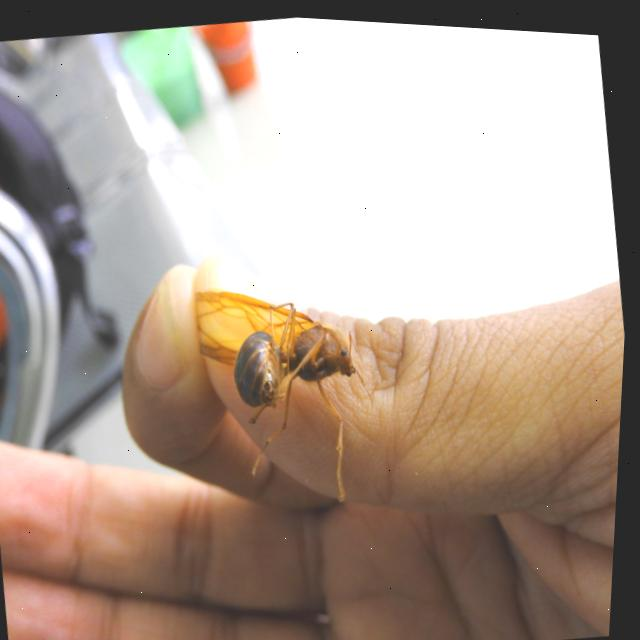Alive-Male-Alate: (170, 264, 396, 521)
